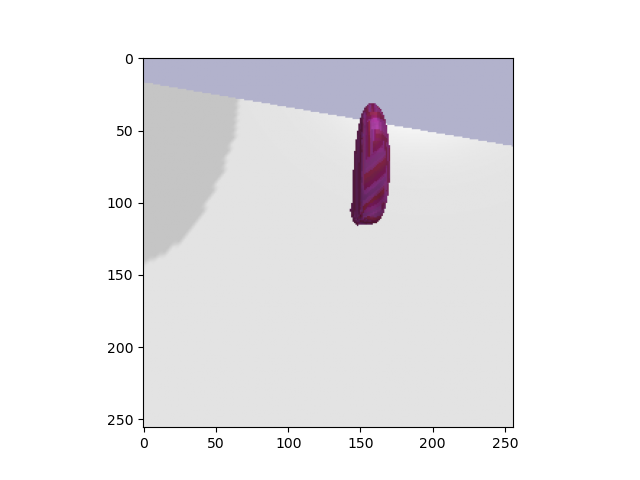v249b387_105: (333, 98, 404, 233)
